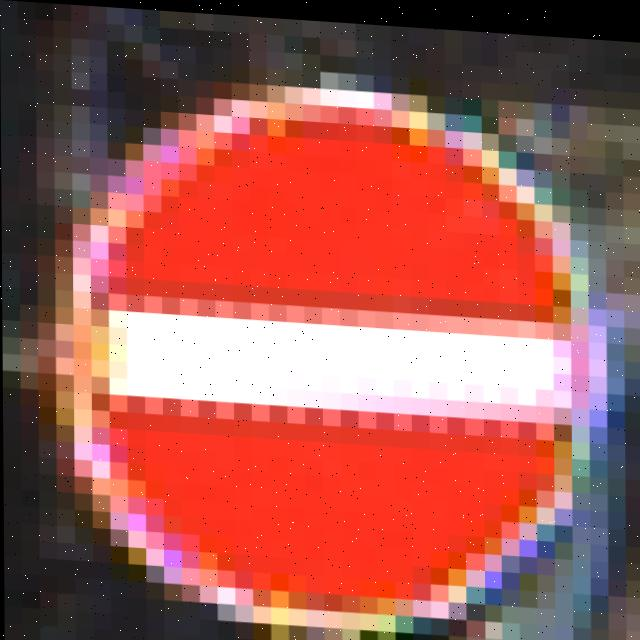road_rough: (83, 87, 589, 640)
